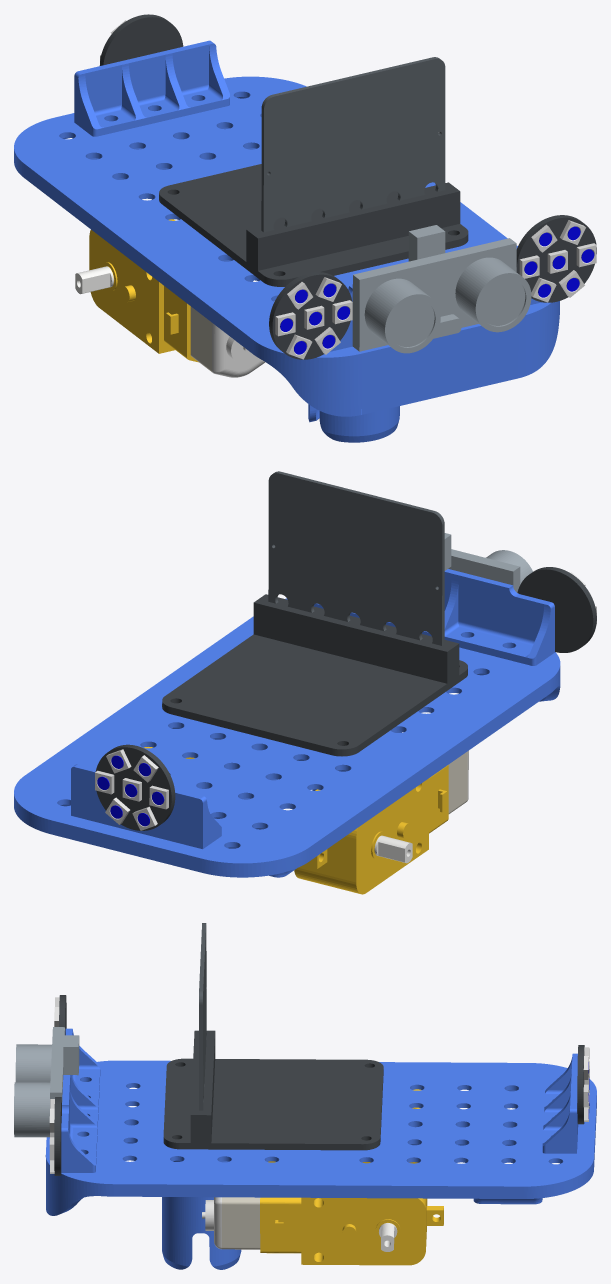
File: Robot.dae
The picture shows the model from 3 angles, top to bottom: view 1: azimuth 30°, elevation 25°; view 2: azimuth 150°, elevation 25°; view 3: azimuth 270°, elevation 25°; orthographic projection. The views are drawn at different scales.
Visible parts, largest first — view 1: Plateforme, BBC microbit, DFR0548, Capteur US, Petit support modules, Disque (×3), Reductor, Support motoreducteur, Support bille, Motor plastic part, Motor metal part, Out2; view 2: Plateforme, DFR0548, BBC microbit, Support modules, Reductor, Disque (×2), Petit support modules, Support motoreducteur (×2), Capteur US, Motor metal part, Out2; view 3: Plateforme, DFR0548, Reductor, Capteur US, Support modules, Petit support modules, Support bille, Motor metal part, Support motoreducteur, BBC microbit, Disque (×2), Motor plastic part.
Boxes of the visible parts, x1,y1,x2,y2 form: Plateforme: (14, 76, 559, 416); BBC microbit: (261, 57, 445, 232); DFR0548: (159, 164, 468, 286); Capteur US: (352, 225, 531, 353); Petit support modules: (74, 40, 229, 136); Disque (×3): (99, 14, 596, 359); Reductor: (89, 219, 198, 362); Support motoreducteur: (119, 228, 253, 281); Support bille: (308, 404, 399, 442); Motor plastic part: (212, 323, 265, 377); Motor metal part: (190, 306, 211, 371); Out2: (75, 266, 113, 294); Plateforme: (14, 598, 560, 877); DFR0548: (162, 594, 467, 756); BBC microbit: (268, 471, 444, 645); Support modules: (314, 569, 554, 665); Reductor: (294, 765, 448, 894); Disque (×2): (95, 567, 596, 830); Petit support modules: (71, 764, 221, 849); Support motoreducteur (×2): (125, 677, 449, 791); Capteur US: (444, 533, 532, 592); Motor metal part: (448, 751, 467, 813); Out2: (374, 835, 412, 863); Plateforme: (45, 1060, 596, 1226); DFR0548: (163, 1030, 383, 1150); Reductor: (260, 1197, 443, 1265); Capteur US: (14, 1027, 79, 1137); Support modules: (61, 1028, 100, 1172); Petit support modules: (542, 1053, 578, 1153); Support bille: (162, 1212, 241, 1269); Motor metal part: (222, 1197, 260, 1249); Support motoreducteur: (287, 1150, 354, 1185); BBC microbit: (199, 923, 206, 1110); Disque (×2): (54, 1045, 584, 1175); Motor plastic part: (205, 1197, 221, 1249).
Bounding box in the file's own units: 0.0972 × 0.1693 × 0.096.
